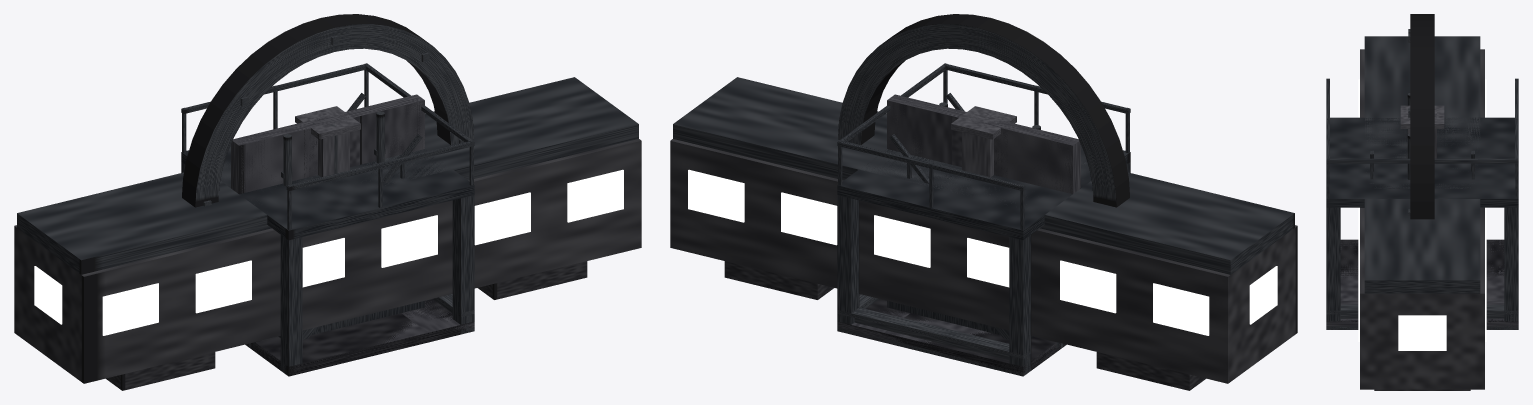
Rendered from kitA.glb.
3 renders of one model, left to right at view 1: azimuth 30°, elevation 25°; view 2: azimuth 150°, elevation 25°; view 3: azimuth 270°, elevation 25°, orthographic. The views are drawn at different scales.
Visible parts, largest first — view 1: tram_carriage, stair_landing, shaft_ring, wall_plain, floor_slab, wall_window, pillar_square, ceiling_slab, stair_flight, wall_pipes; view 2: tram_carriage, stair_landing, shaft_ring, wall_plain, wall_window, girder_corner, floor_slab, pillar_square, ceiling_slab, stair_flight; view 3: tram_carriage, stair_landing, shaft_ring, ceiling_slab, floor_slab, girder_corner, pillar_square, stair_flight, wall_pipes.
Part boxes in pixels (x1,y1,x2,y2): tram_carriage: [14, 77, 641, 390]; stair_landing: [181, 63, 474, 374]; shaft_ring: [182, 14, 473, 207]; wall_plain: [231, 94, 424, 193]; floor_slab: [245, 299, 473, 376]; wall_window: [234, 95, 424, 193]; pillar_square: [295, 106, 360, 177]; ceiling_slab: [246, 301, 474, 375]; stair_flight: [278, 93, 424, 339]; wall_pipes: [281, 111, 385, 186]; tram_carriage: [670, 77, 1297, 390]; stair_landing: [837, 63, 1130, 373]; shaft_ring: [838, 14, 1129, 207]; wall_plain: [887, 94, 1080, 194]; wall_window: [887, 95, 1074, 193]; girder_corner: [837, 294, 1031, 376]; floor_slab: [838, 299, 1066, 375]; pillar_square: [951, 106, 1016, 177]; ceiling_slab: [837, 311, 1065, 376]; stair_flight: [887, 93, 1033, 339]; tram_carriage: [1358, 36, 1486, 390]; stair_landing: [1326, 78, 1518, 329]; shaft_ring: [1408, 14, 1434, 219]; ceiling_slab: [1326, 239, 1518, 329]; floor_slab: [1326, 239, 1518, 329]; girder_corner: [1326, 304, 1518, 329]; pillar_square: [1400, 105, 1444, 164]; stair_flight: [1370, 150, 1474, 188]; wall_pipes: [1407, 93, 1410, 179].
Bounding box in the file's own units: 12.06 × 6 × 4.
Materials: 6 (1 with a texture image).
